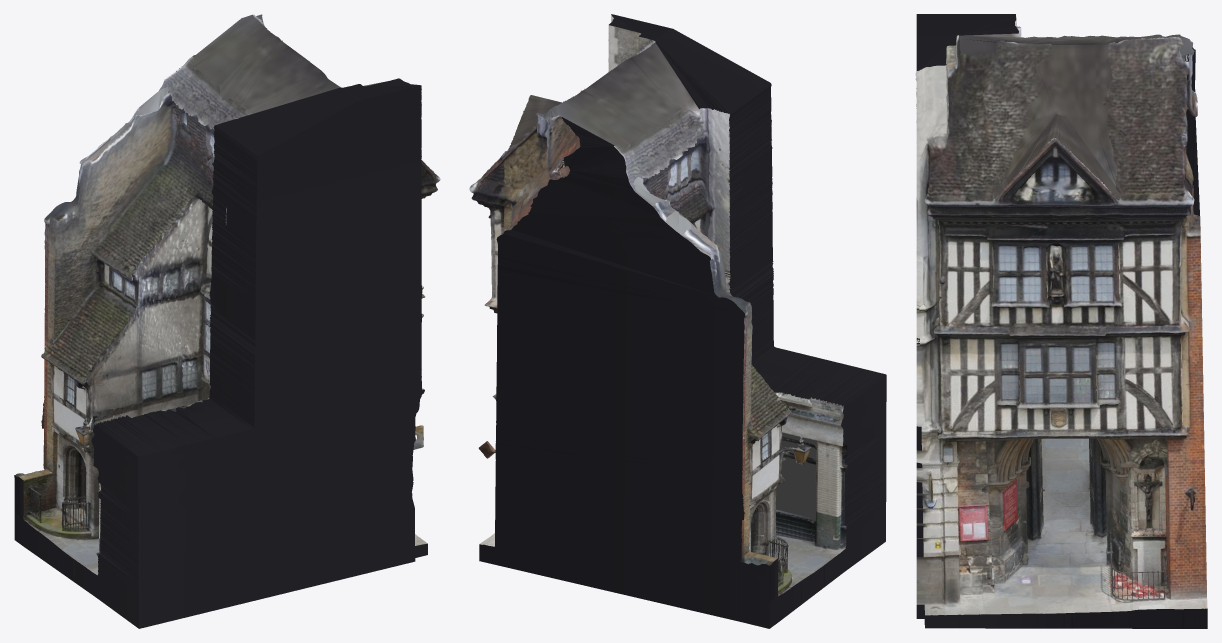
Rendered from st_bartholomews_gatehouse.glb.
3 renders of one model, left to right at view 1: azimuth 30°, elevation 25°; view 2: azimuth 150°, elevation 25°; view 3: azimuth 270°, elevation 25°, orthographic. The views are drawn at different scales.
Visible parts, largest first — view 1: Object_2; view 2: Object_2, Object_15; view 3: Object_2.
Part boxes in pixels (<box>): Object_2: <box>14,14,440,628</box>; Object_2: <box>469,14,886,628</box>; Object_15: <box>776,432,816,528</box>; Object_2: <box>915,14,1207,628</box>.
Bounding box in the file's own units: 29.65 × 43.09 × 20.61.
2 materials, 1 textured.
